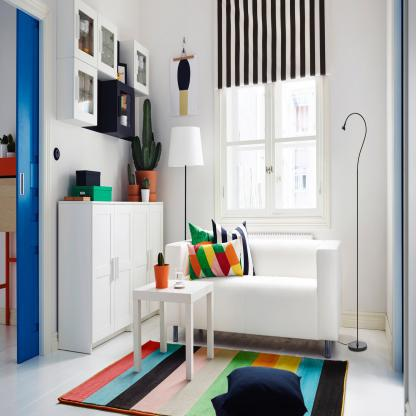lampu: (168, 124, 206, 231)
meja: (131, 274, 215, 383)
sova: (161, 236, 345, 355)
